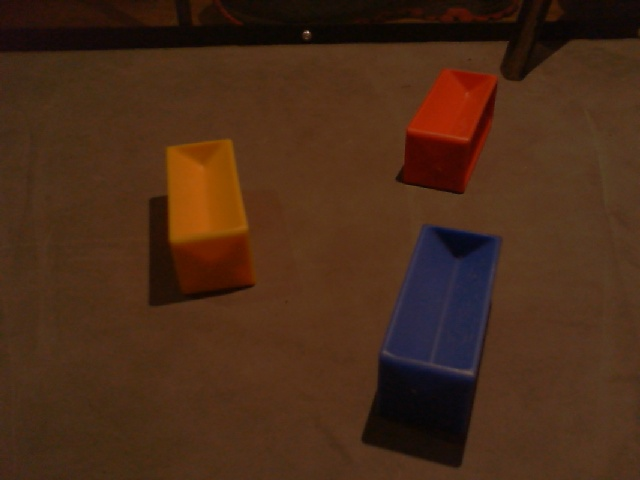BlueSample: (377, 223, 503, 412)
RedSample: (401, 66, 500, 194)
YellowSample: (162, 138, 256, 300)
